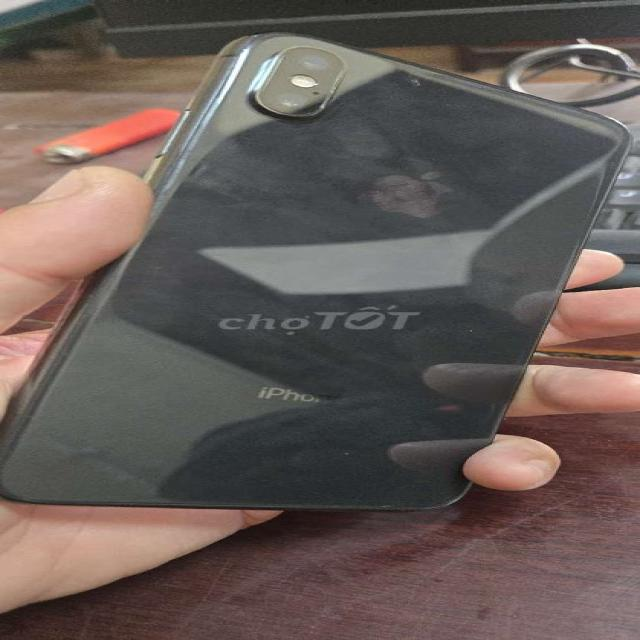gen_x_xs: (0, 33, 628, 510)
scratch: (384, 66, 448, 94)
